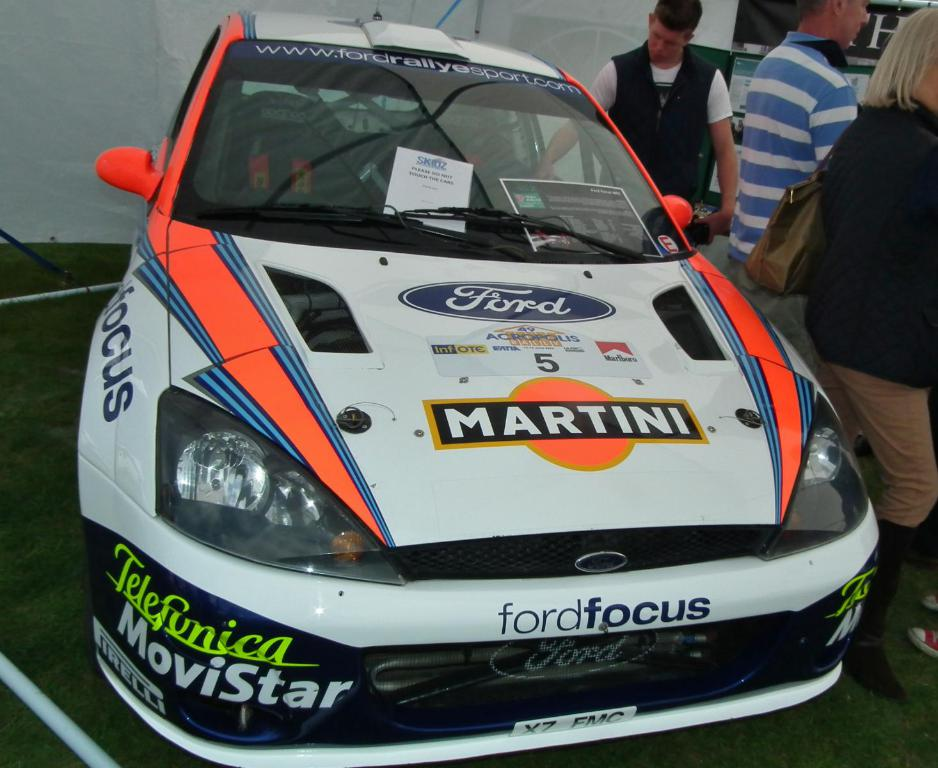Person: (801, 3, 938, 706), (729, 0, 869, 376), (530, 0, 739, 239)
